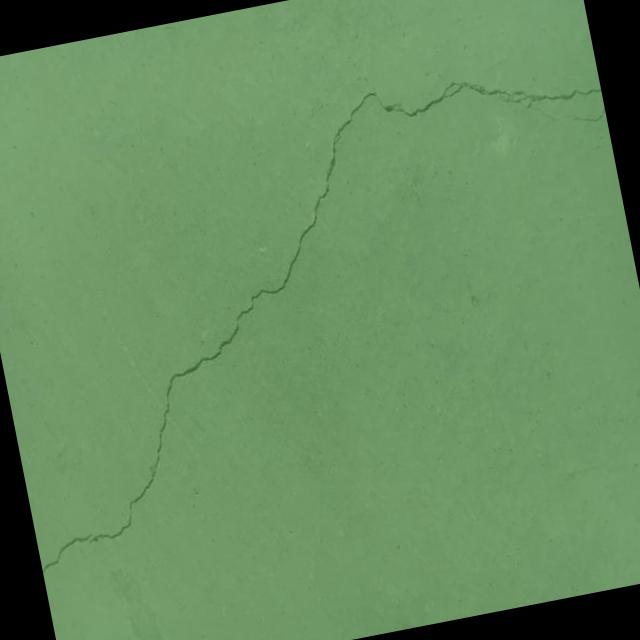crack: (0, 48, 640, 574)
